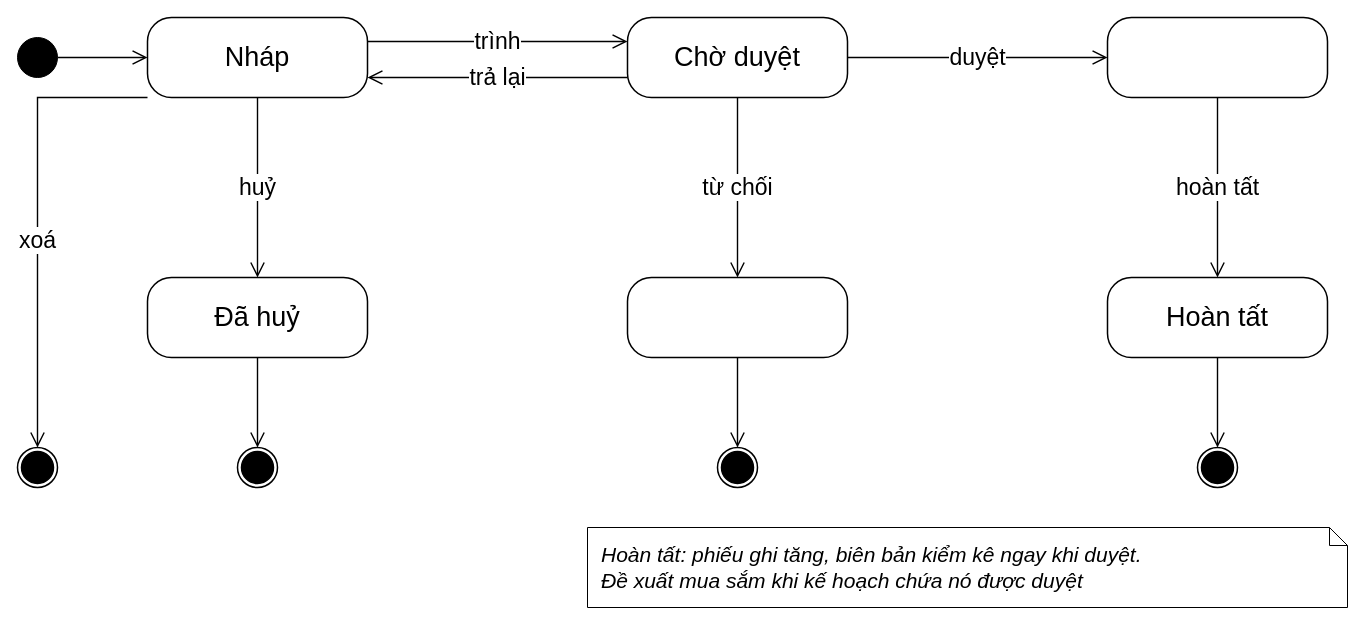
Image size: 1366x626. Some labels were removed from this diagram. The shapes that lost their labels are listed below. From the top down, each one's box as (x1, y1, x2, y2) in pixels, then its label:
(1106, 16, 1328, 98): Đã duyệt
(626, 276, 848, 358): Bị từ chối
